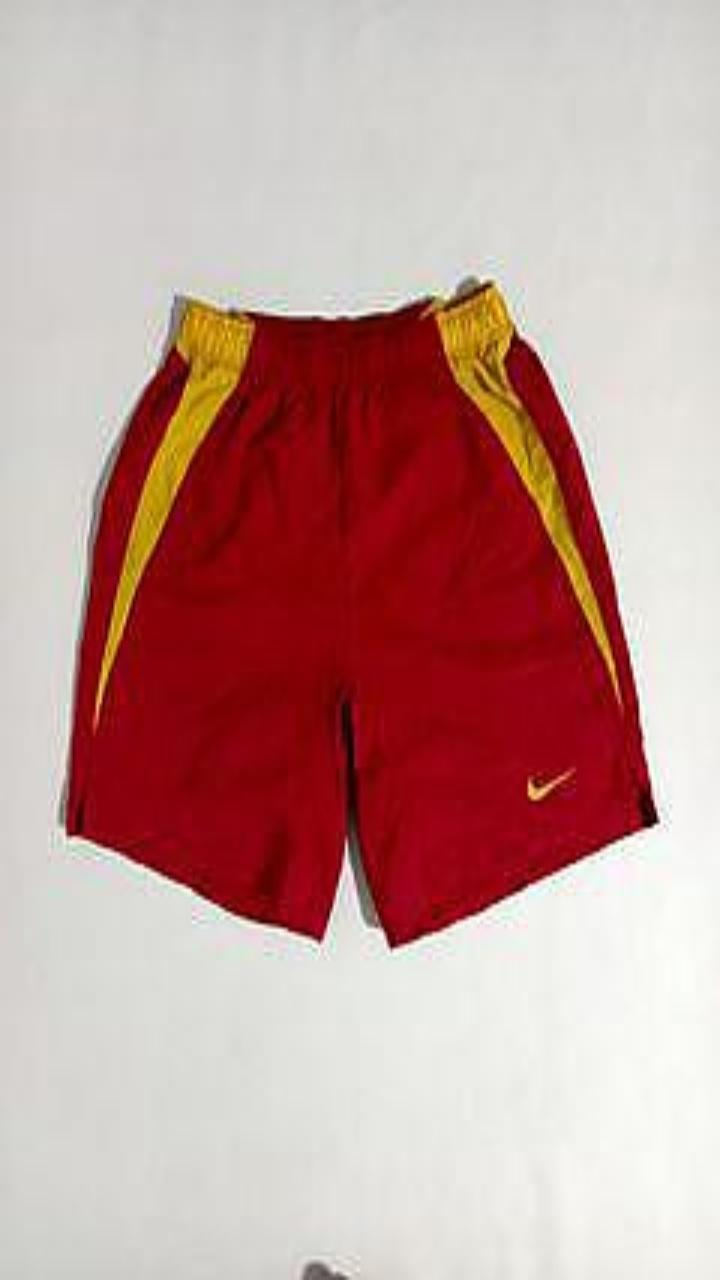Shorts: (64, 281, 657, 946)
